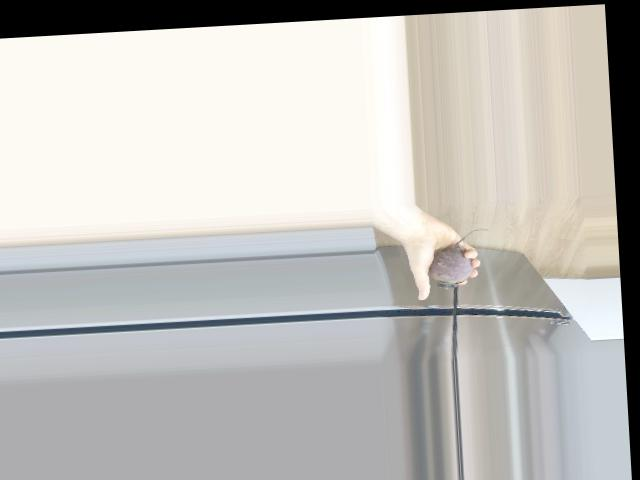beet: (426, 228, 493, 289)
